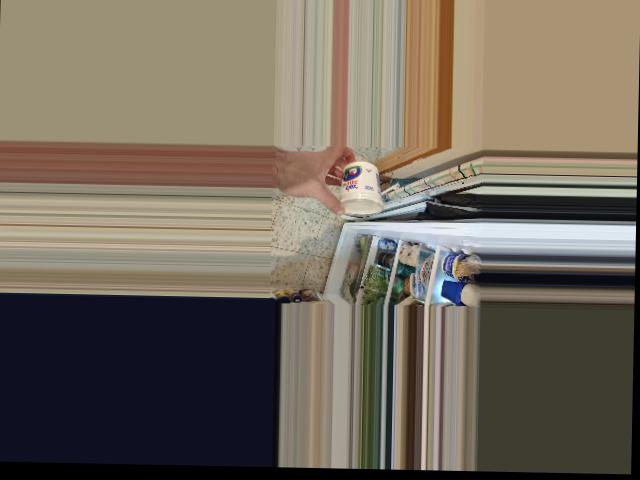cotage: (335, 164, 379, 212)
